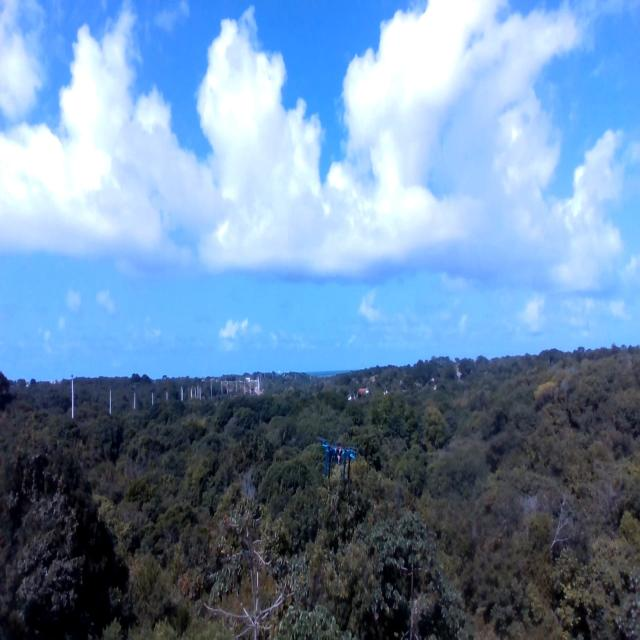-uav-: (316, 431, 357, 488)
